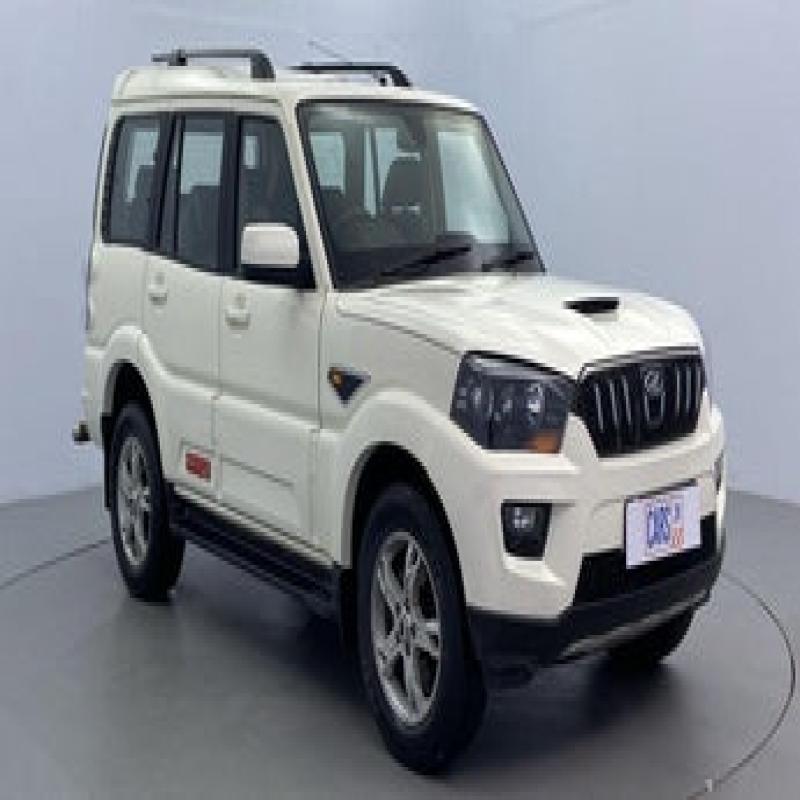car: (70, 34, 729, 766)
